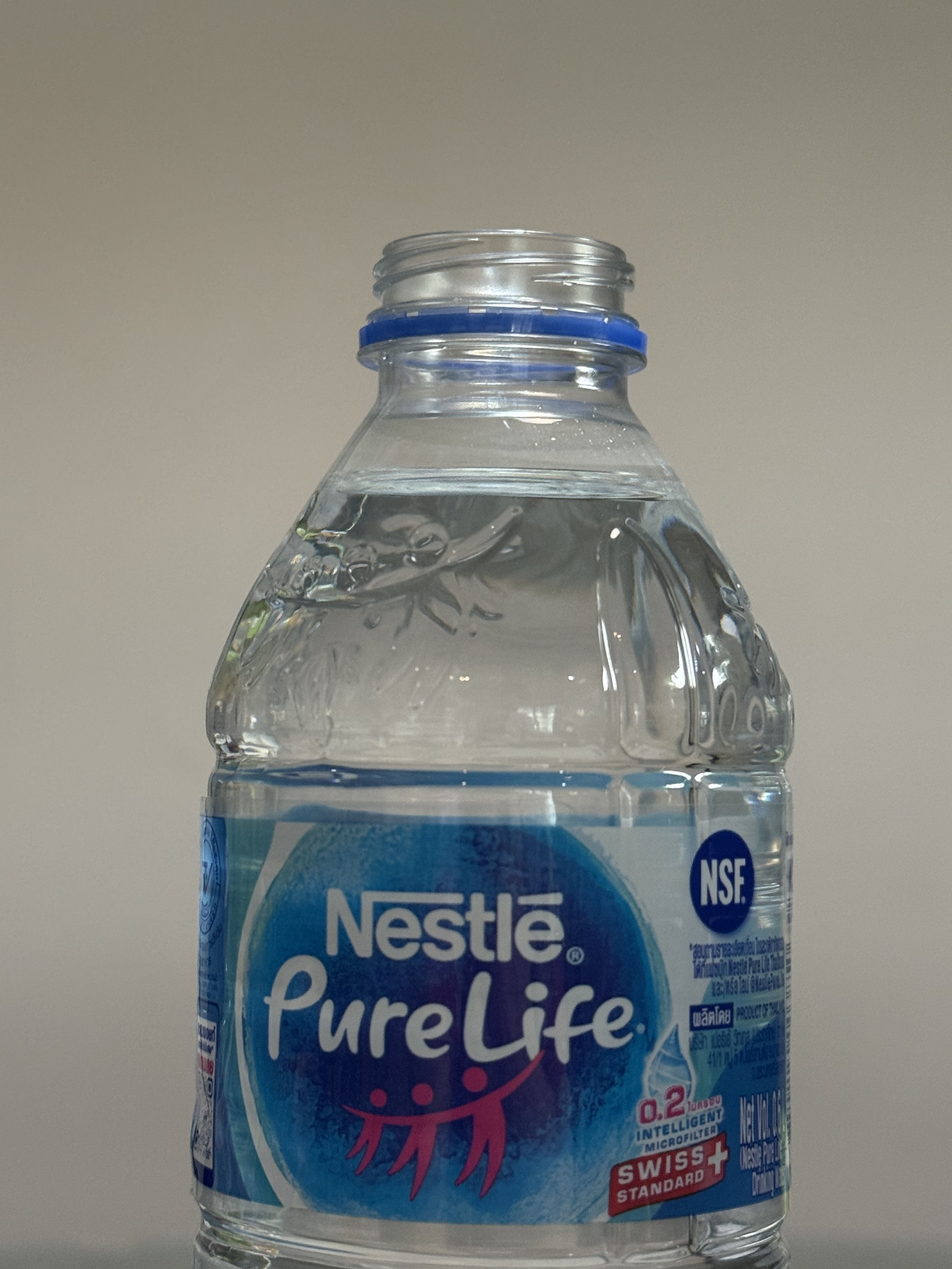no_cap: (354, 225, 652, 372)
